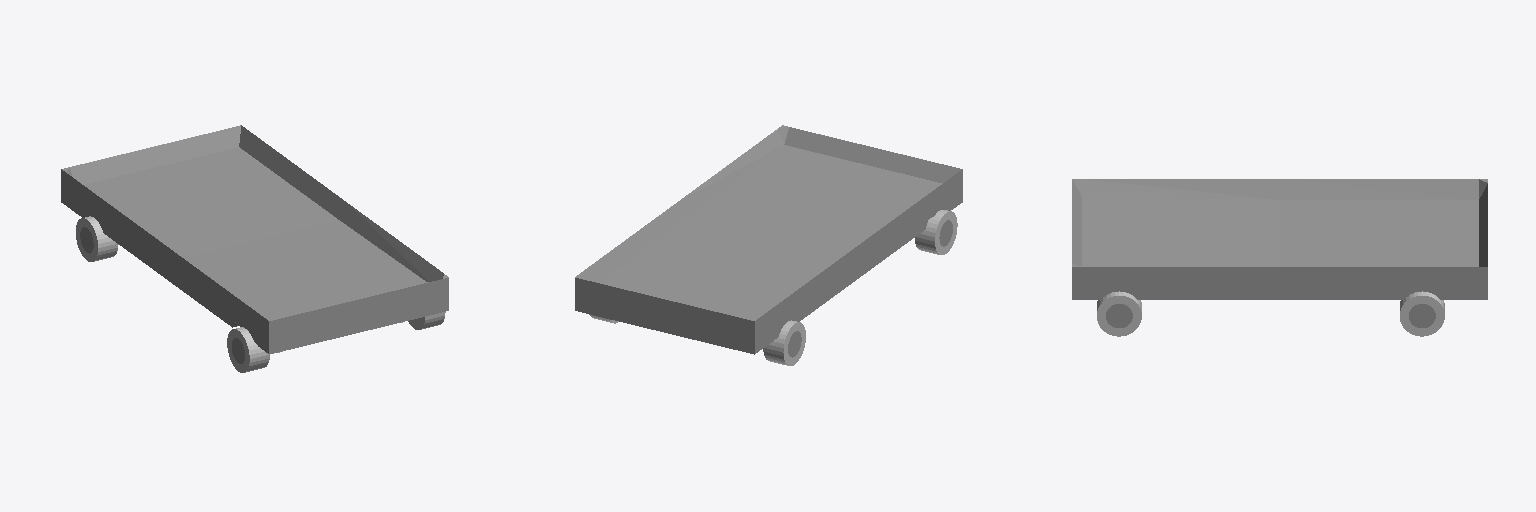
File: carBoxModel.obj
The picture shows the model from 3 angles: view 1: azimuth 30°, elevation 25°; view 2: azimuth 150°, elevation 25°; view 3: azimuth 270°, elevation 25°; orthographic projection.
Visible parts, largest first — view 1: Cube, Cylinder.001; view 2: Cube, Cylinder.001; view 3: Cube, Cylinder.001.
Boxes of the visible parts, box(x1,y1,x2,y2) form: Cube: box(61, 125, 448, 354); Cylinder.001: box(76, 216, 445, 372); Cube: box(575, 125, 962, 354); Cylinder.001: box(589, 210, 957, 365); Cube: box(1072, 179, 1487, 299); Cylinder.001: box(1097, 291, 1444, 336).
Size of the model in its own units: 2.18 by 0.6981 by 4.